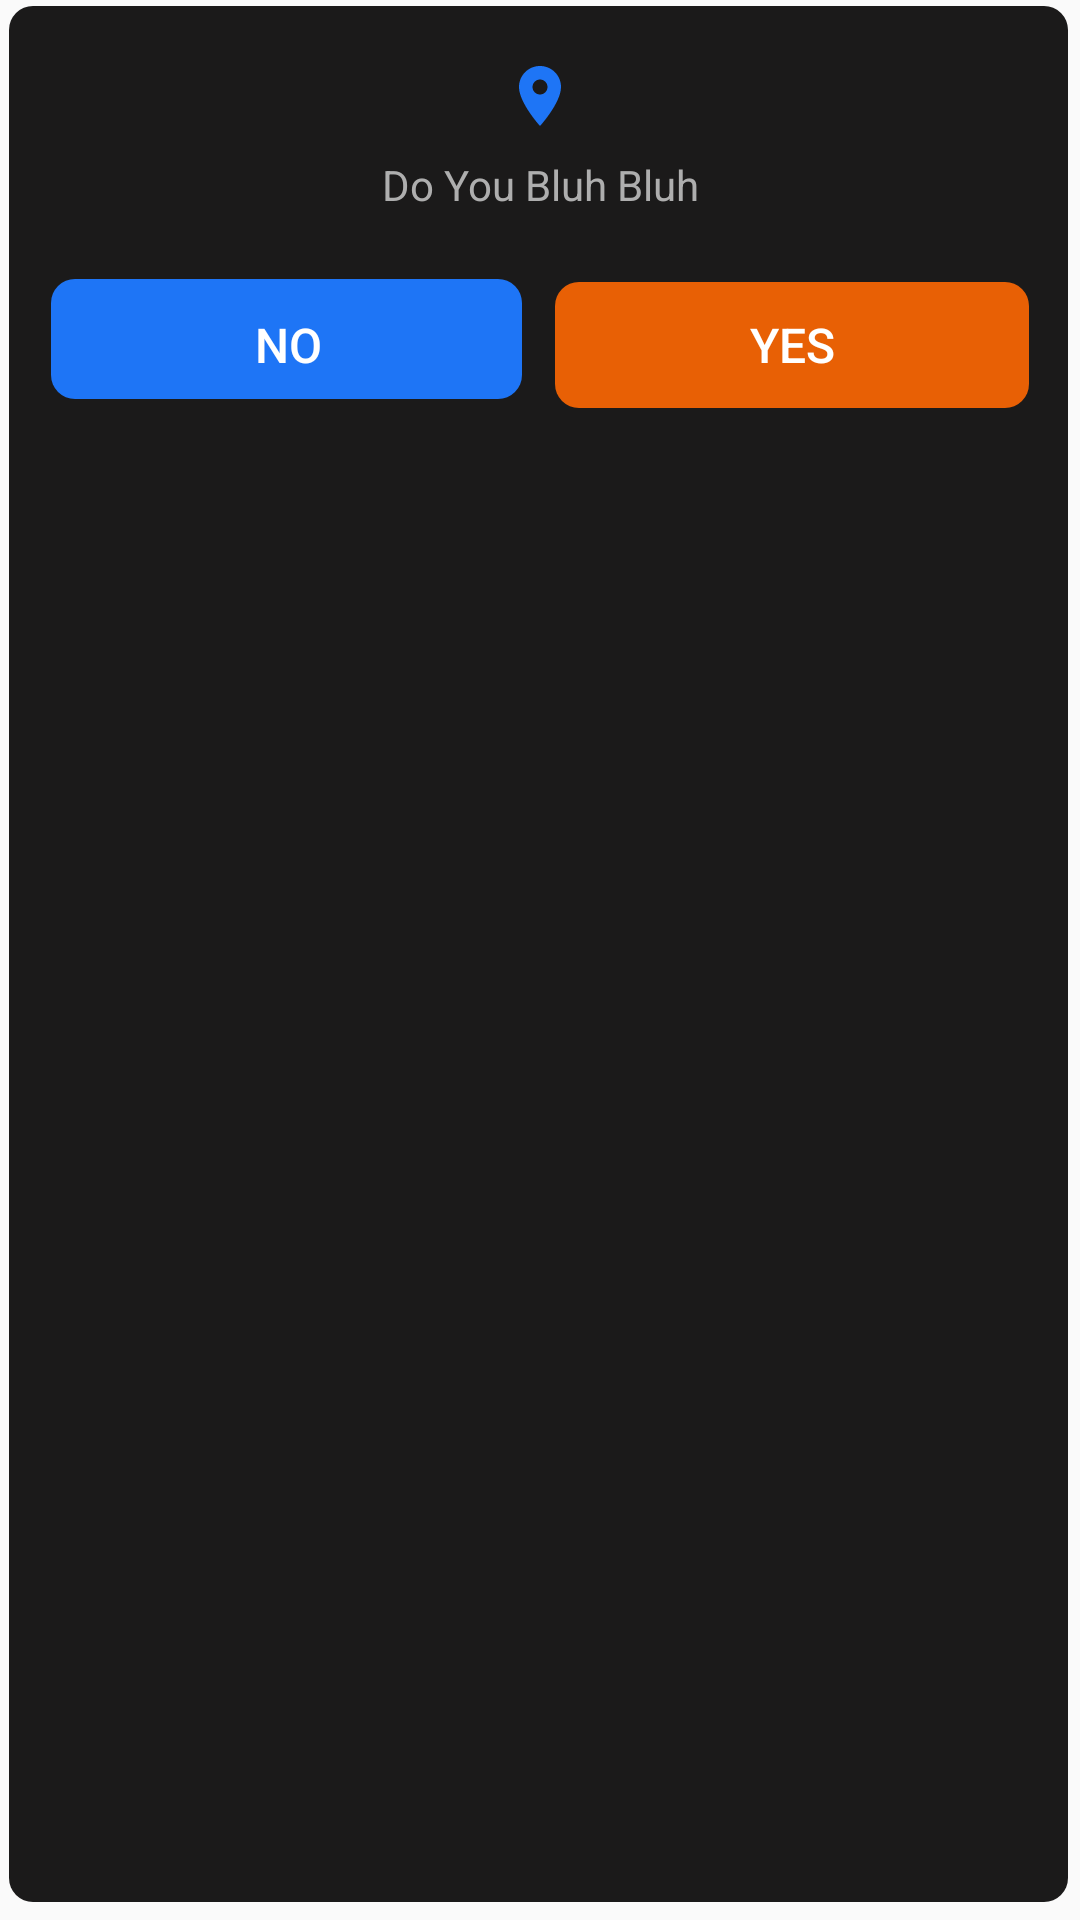

Screen size 1080x1920. Icon name, then its center in pixels as (x=x, y=y):
location on: (x=540, y=96)
